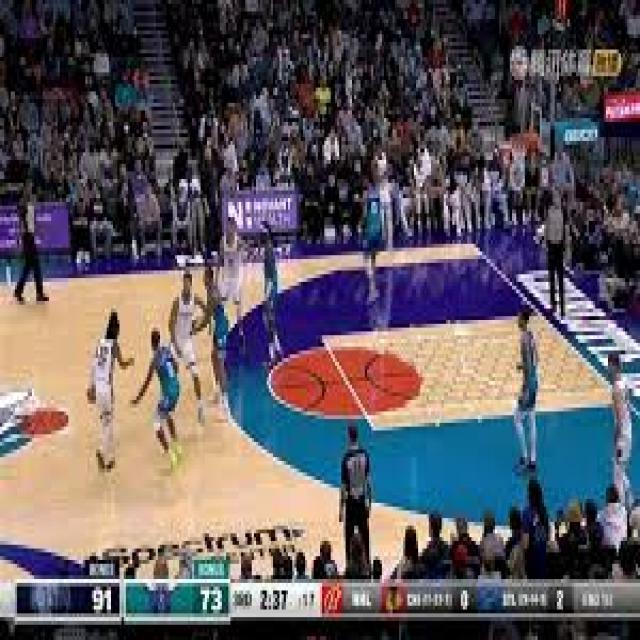rim: (85, 385, 98, 404)
